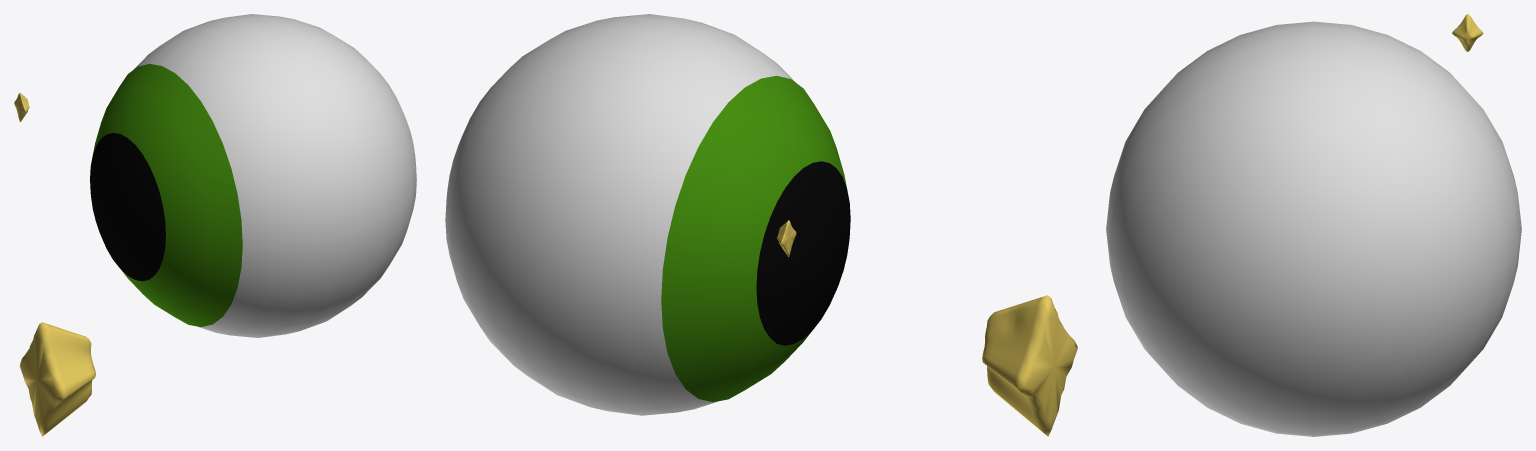
The model's file is Eye_Am_Happy_kid.obj.
3 views of the same model, side by side, from view 1: azimuth 30°, elevation 25°; view 2: azimuth 150°, elevation 25°; view 3: azimuth 270°, elevation 25° (orthographic). The views are drawn at different scales.
Parts seen in each view (by area): view 1: Eye, Sparkle_2; view 2: Eye, Sparkle_2; view 3: Eye, Sparcle_1.
Boxes of the visible parts, x1,y1,x2,y2 form: Eye: [90, 14, 416, 337]; Sparkle_2: [19, 322, 95, 436]; Eye: [445, 14, 850, 415]; Sparkle_2: [982, 295, 1077, 436]; Eye: [1106, 21, 1521, 436]; Sparcle_1: [1452, 14, 1483, 52].
Bounding box in the file's own units: 88.96 × 61.8 × 60.24.
